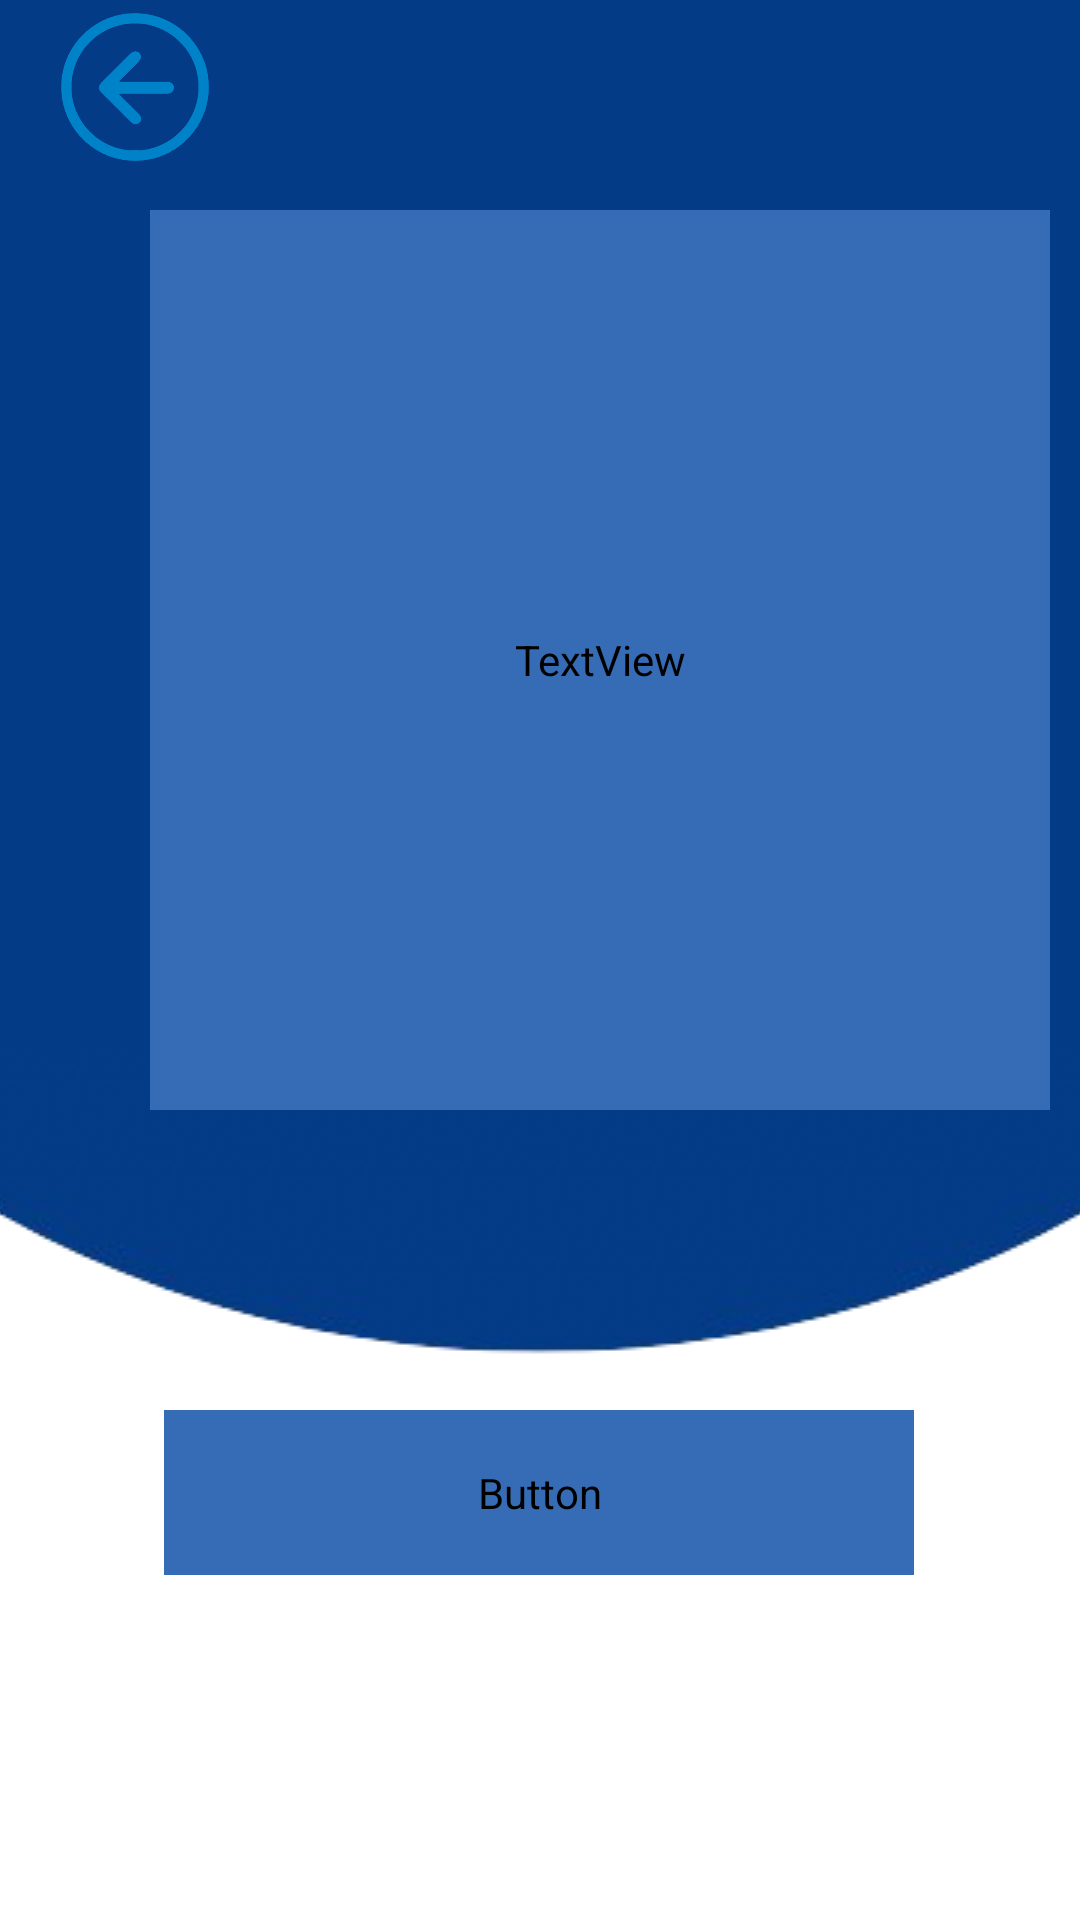

Named icons in this screenshot (1080px x 1920px) and their bounding boxes, bbox=(x1, y1, x2, y2):
seta voltar: bbox=(61, 13, 209, 161)
